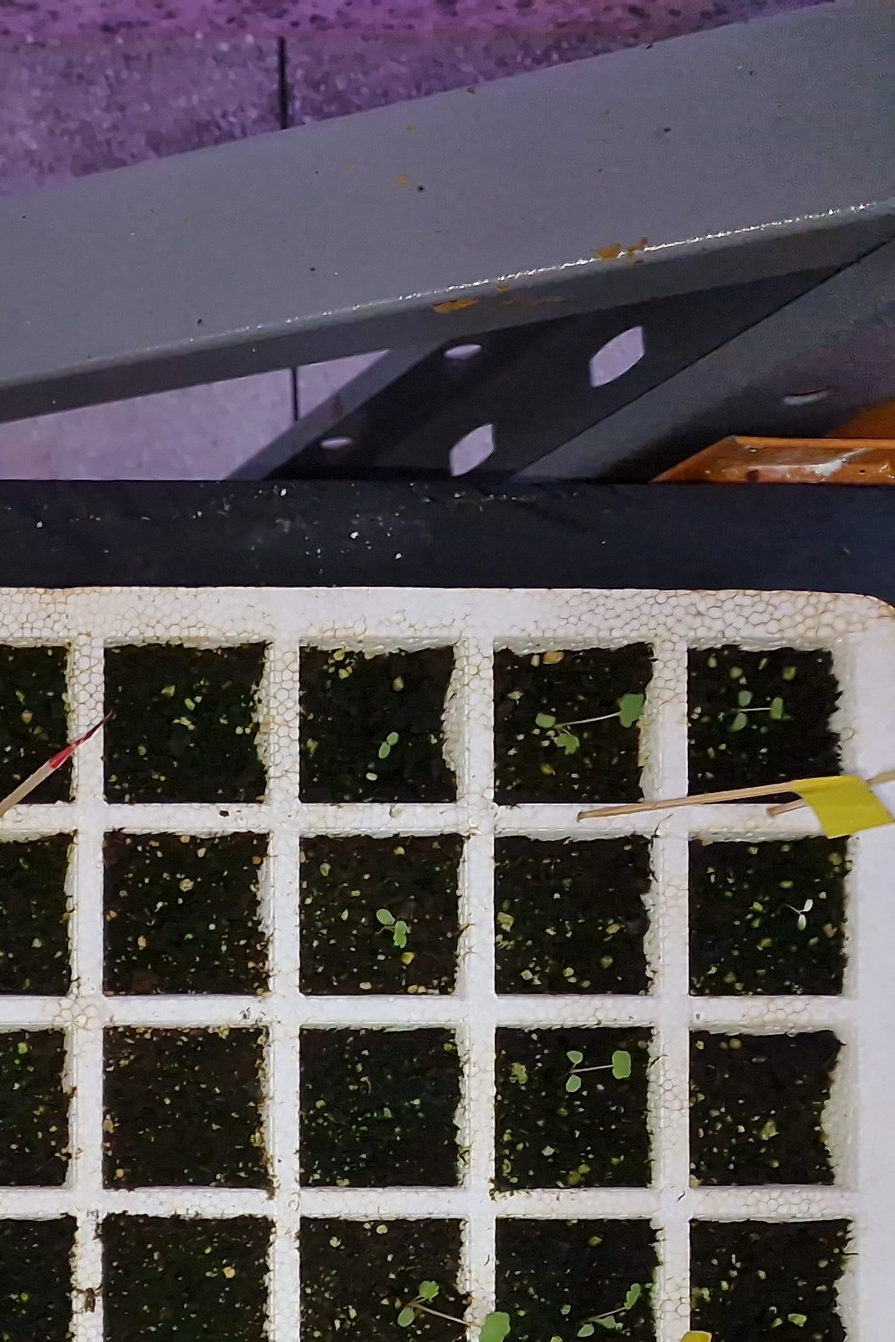Folha: (619, 693, 644, 727), (612, 1051, 631, 1079), (557, 734, 580, 754), (624, 1283, 640, 1309), (398, 1308, 415, 1327), (376, 908, 393, 925), (420, 1281, 438, 1297), (393, 926, 406, 948), (771, 697, 783, 719), (535, 715, 555, 727), (566, 1076, 581, 1092), (733, 713, 747, 730), (597, 1316, 615, 1329), (427, 1281, 440, 1298), (738, 691, 752, 706), (566, 1051, 582, 1063), (578, 1325, 594, 1337), (378, 744, 390, 758), (388, 732, 398, 745)
Germinacao: (398, 1280, 511, 1342), (536, 693, 644, 753), (577, 1284, 641, 1337), (566, 1051, 631, 1091), (730, 691, 783, 730), (378, 910, 407, 948), (785, 899, 813, 930), (373, 732, 398, 758)
